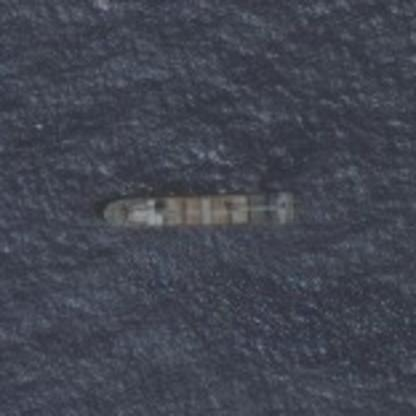ship: (93, 188, 304, 232)
